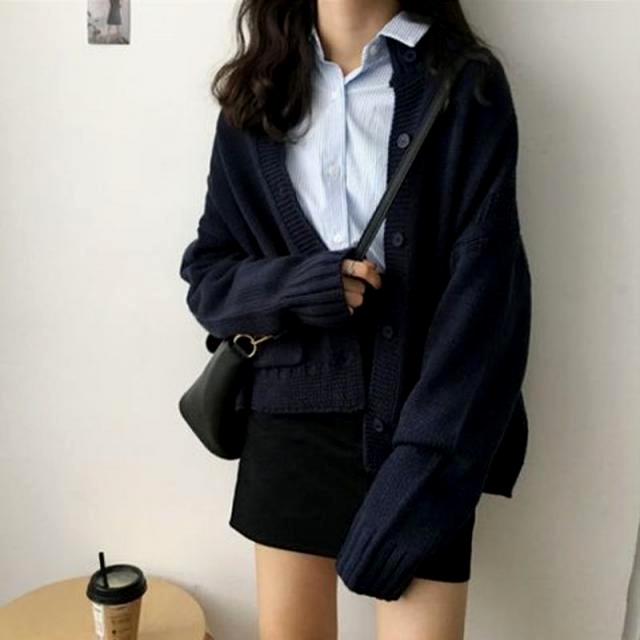Miniskirt: (228, 298, 492, 587)
